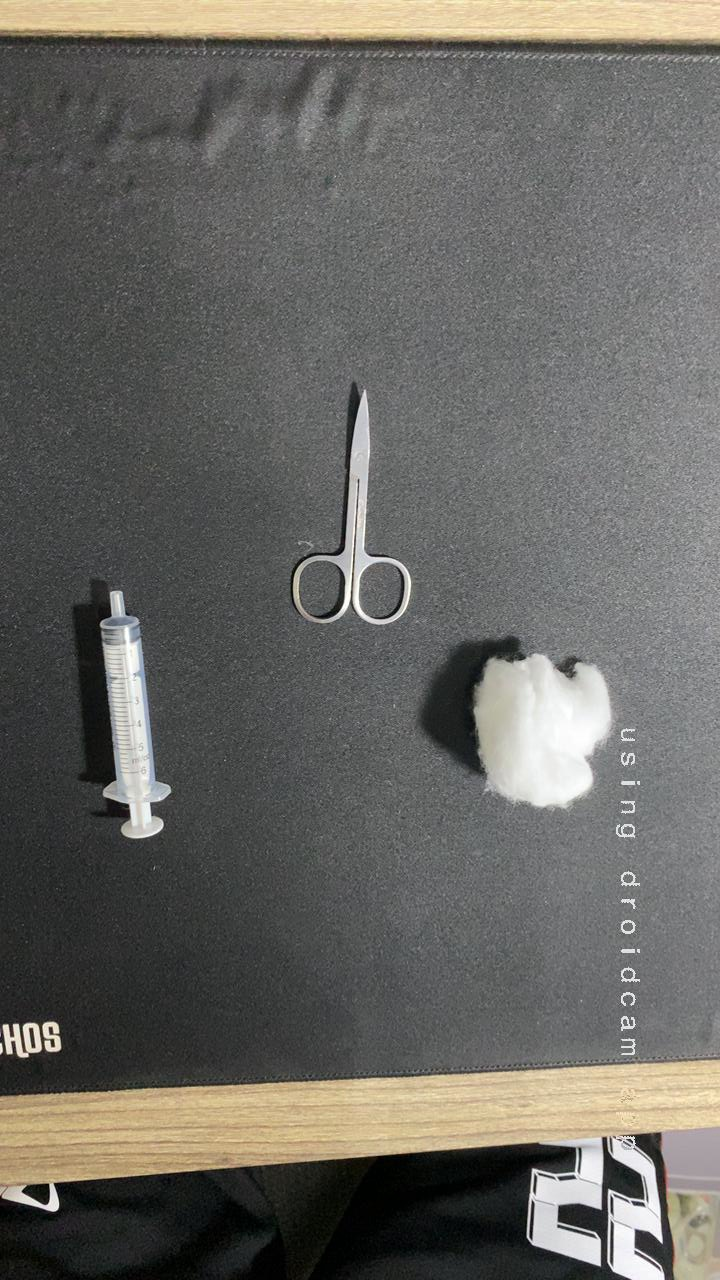cotton: (443, 627, 645, 825)
scissor: (274, 376, 430, 635)
syringe: (62, 569, 197, 856)
